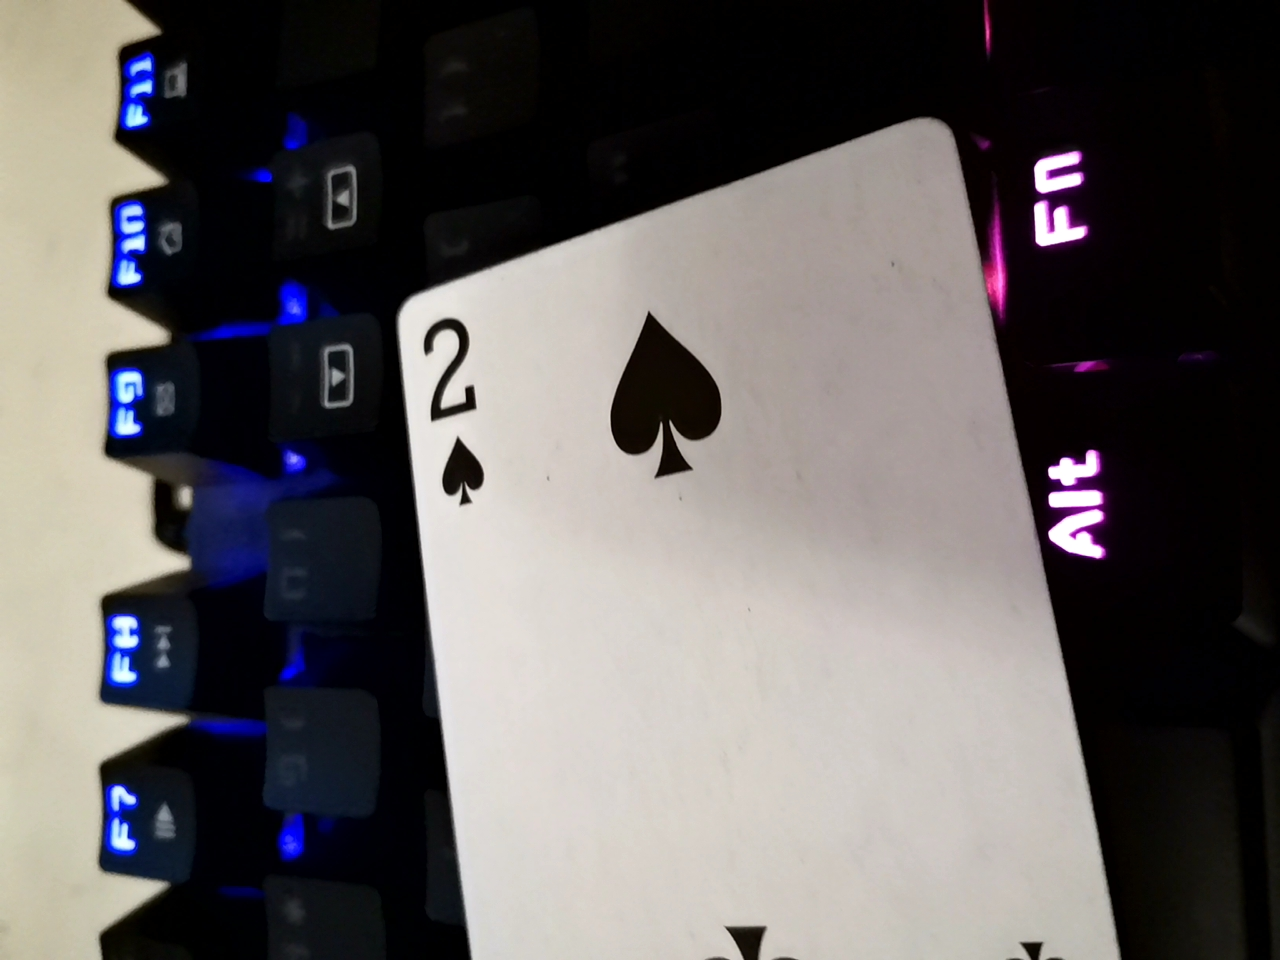ht 2: (343, 118, 1073, 956)
